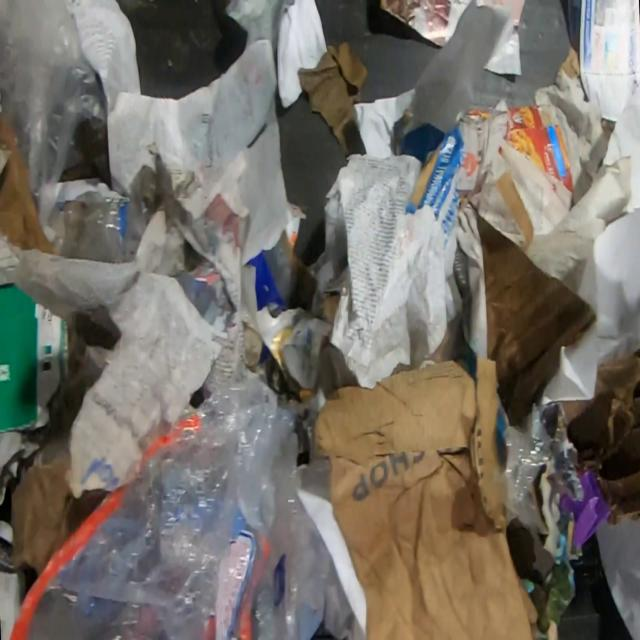cardboard: (473, 204, 598, 426), (561, 347, 640, 526), (468, 106, 572, 195)
soft_plastic: (7, 362, 365, 640), (62, 198, 148, 265), (504, 404, 552, 521)
